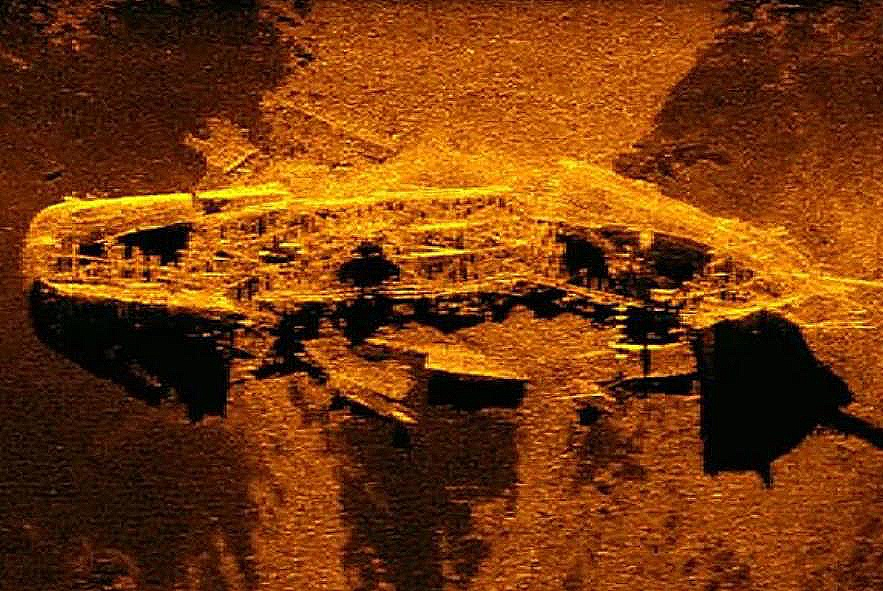ship: (20, 155, 883, 428)
